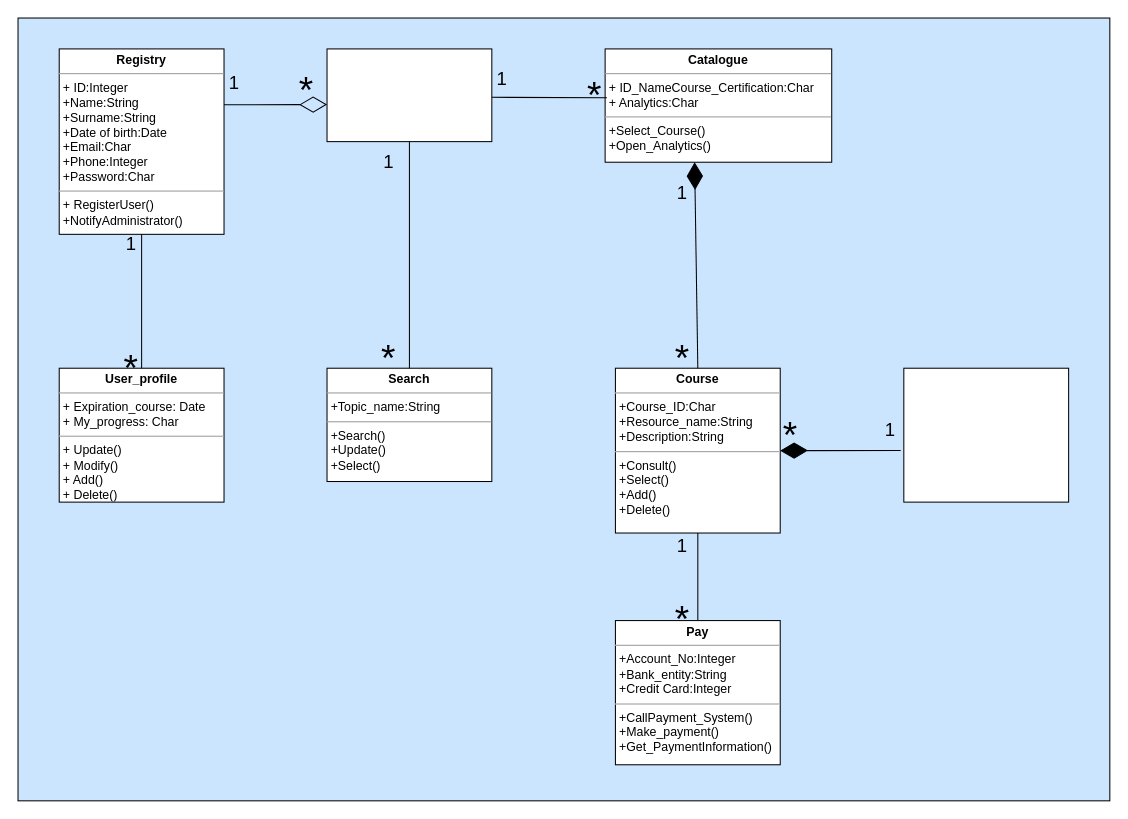
Some shapes in this 1128 by 819 pixel diagram are drawn without their labels. Here are the shapes that lost their labels. From the top down, the centre of each, then its label:
the point at 409,95: SessionGUI + UserID: Char +Password: Char +Login()
the point at 986,434: Material +Document:Char +Photo:Char +Save() +Edit() +Delete()
